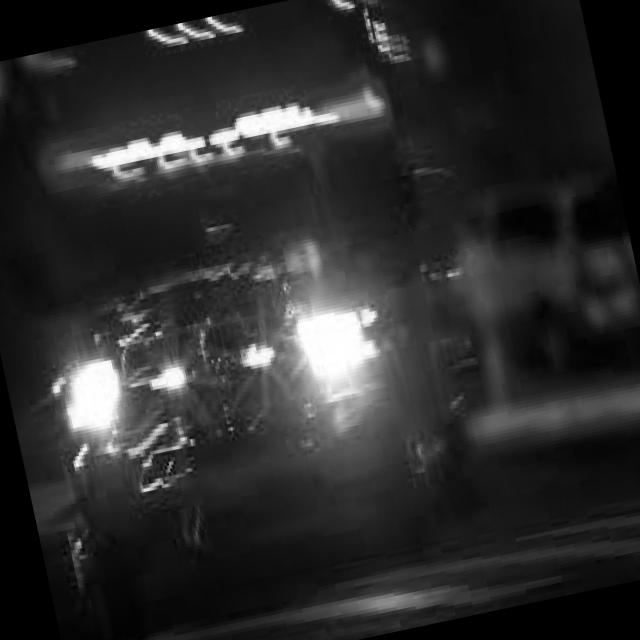ambulance: (0, 0, 485, 543)
